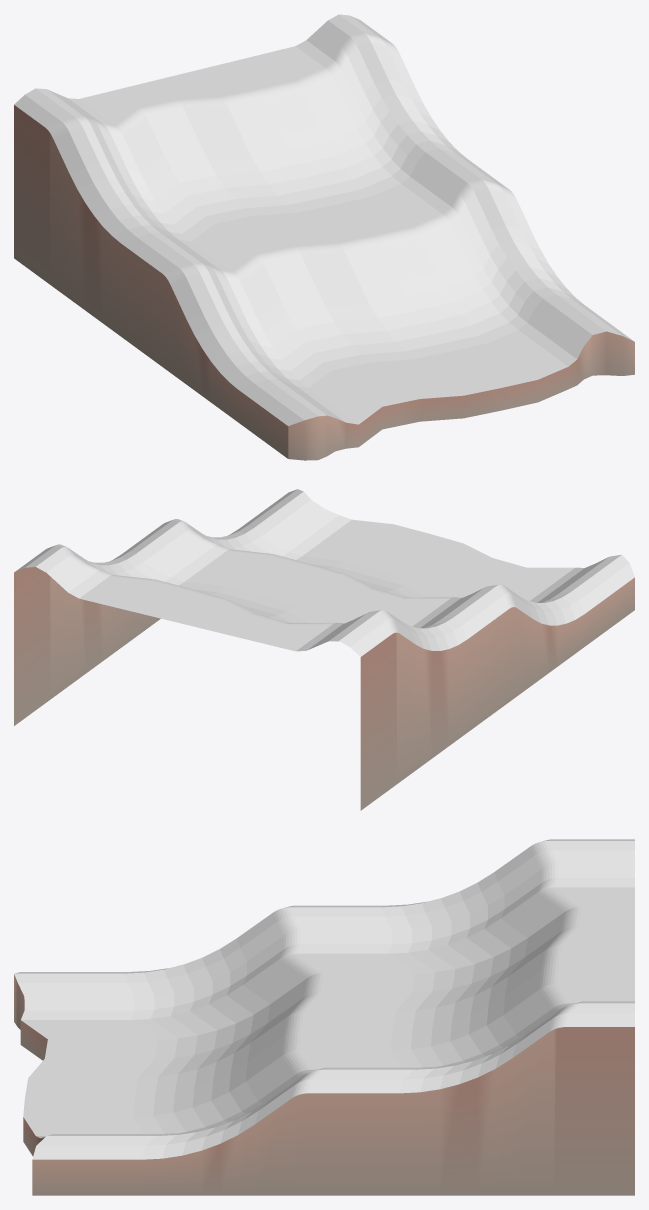
The model's file is bench_coping.glb.
The picture shows the model from 3 angles, top to bottom: view 1: azimuth 30°, elevation 25°; view 2: azimuth 150°, elevation 25°; view 3: azimuth 270°, elevation 25°; orthographic projection. The views are drawn at different scales.
Parts seen in each view (by area): view 1: bench_coping-col-col, bench_coping_ground; view 2: bench_coping-col-col, bench_coping_ground; view 3: bench_coping-col-col, bench_coping_ground.
Part boxes in pixels (box(x1,y1,x2,y2)): bench_coping-col-col: box(14, 14, 634, 425); bench_coping_ground: box(14, 105, 634, 460); bench_coping-col-col: box(15, 489, 634, 656); bench_coping_ground: box(14, 567, 634, 810); bench_coping-col-col: box(14, 839, 634, 1159); bench_coping_ground: box(14, 974, 634, 1195).
Bounding box in the file's own units: 24 × 10.9 × 33.94.
